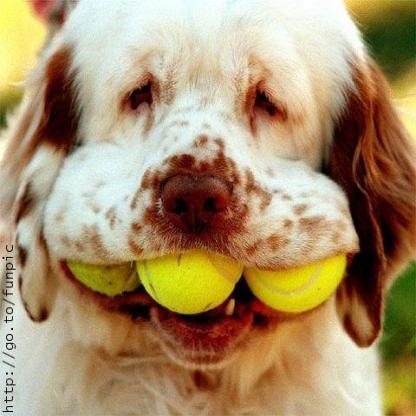clumber: (0, 0, 413, 413)
